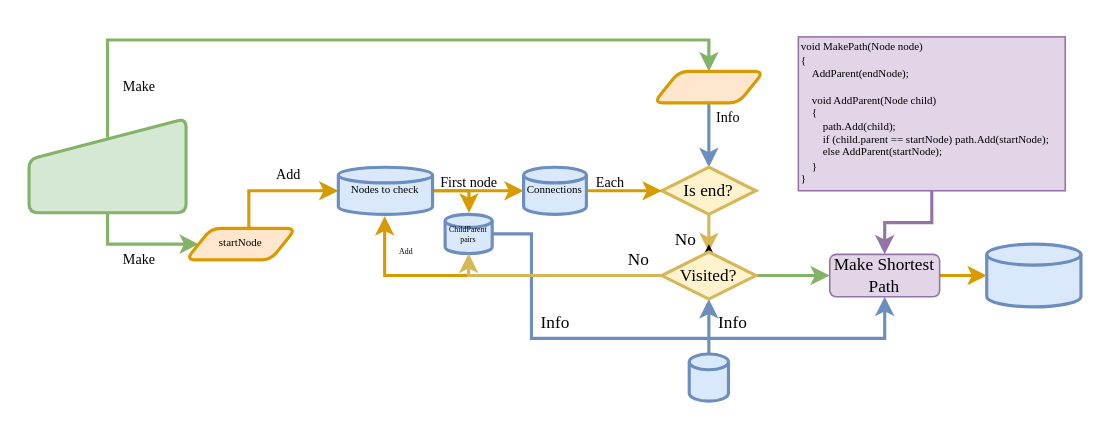
Some shapes in this 1108 by 429 pixel diagram are drawn without their labels. Each missing label, with the centre of its shape:
"endNode" goes at point (708, 86).
"OnGenerate" goes at point (107, 165).
"Shortest path" goes at point (1033, 275).
"Visited" goes at point (708, 377).
